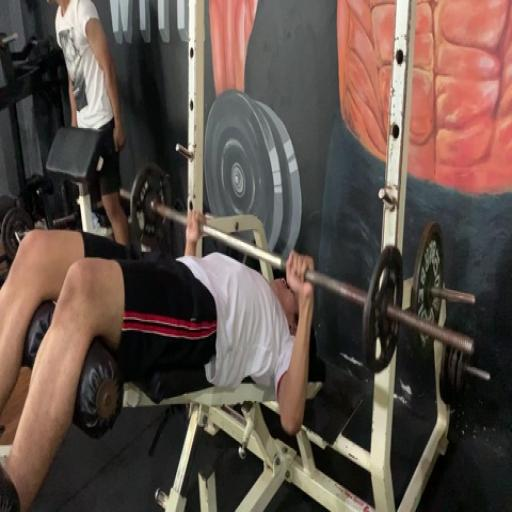exercise: (0, 208, 318, 510)
